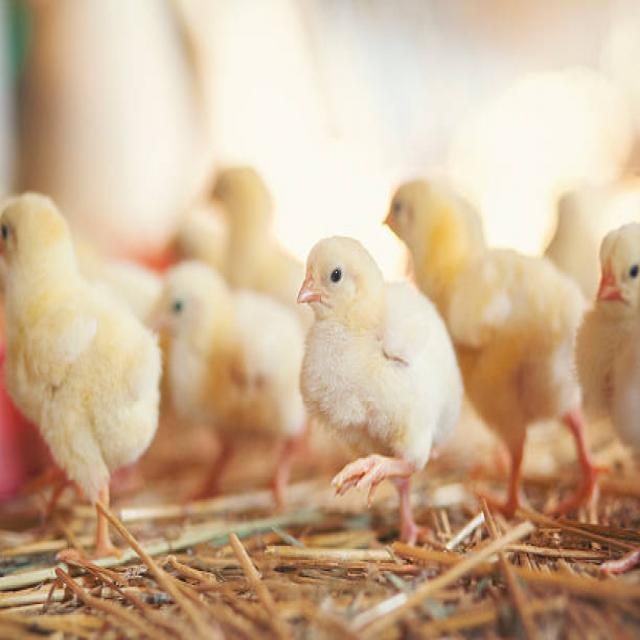Healthy: (1, 182, 183, 586), (291, 227, 457, 564)
